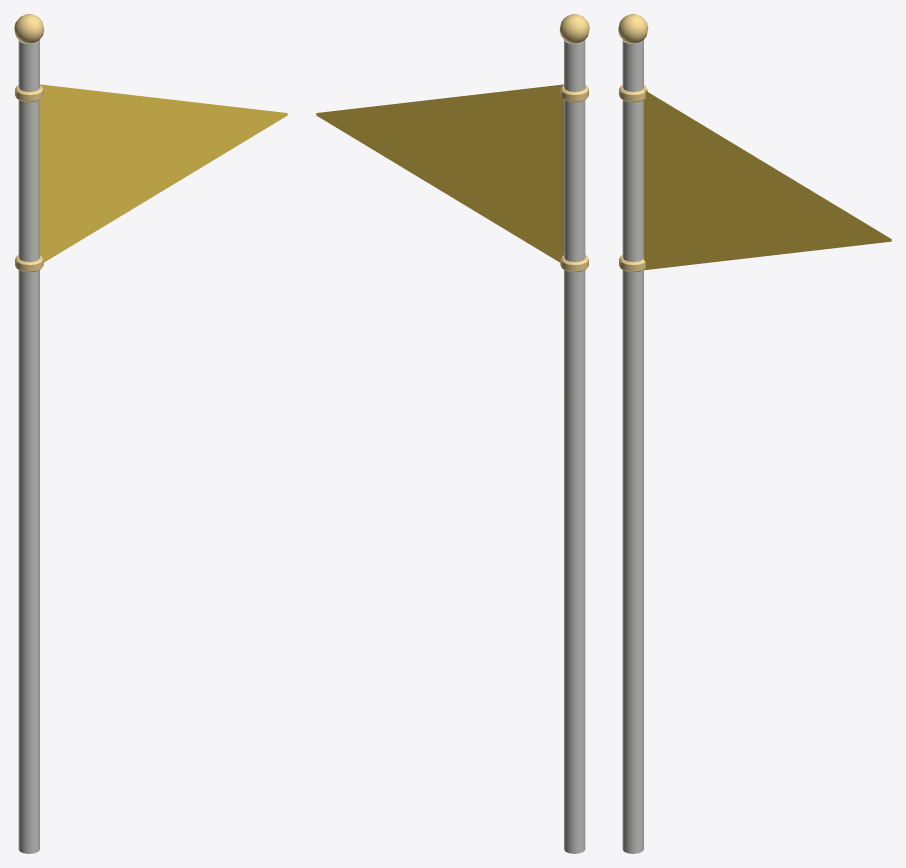
File: flag.glb
3 views of the same model, side by side, from view 1: azimuth 30°, elevation 25°; view 2: azimuth 150°, elevation 25°; view 3: azimuth 330°, elevation 25° (orthographic).
Parts seen in each view (by area): view 1: flag, flagstick; view 2: flag, flagstick; view 3: flag, flagstick.
Boxes of the visible parts, x1,y1,x2,y2 form: flag: (40, 84, 287, 262); flagstick: (14, 14, 44, 853); flag: (316, 84, 563, 262); flagstick: (559, 14, 589, 853); flag: (644, 90, 891, 270); flagstick: (618, 14, 648, 853).
Size of the model in its own units: 0.3506 by 1.03 by 0.034.
